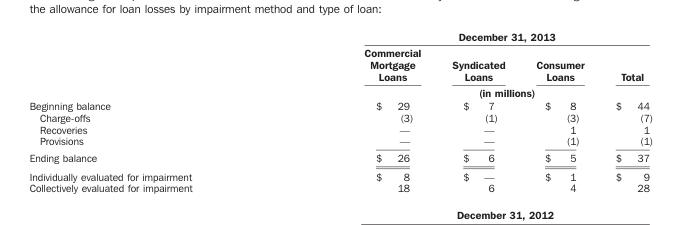table: (28, 29, 652, 193)
table column: (28, 29, 277, 193), (277, 29, 435, 193), (435, 29, 520, 193), (520, 29, 599, 193), (599, 29, 652, 193)
table column header: (28, 29, 652, 99)
table row: (28, 44, 652, 84), (28, 148, 652, 166), (28, 29, 652, 44), (28, 84, 652, 99), (28, 166, 652, 181), (28, 134, 652, 148), (28, 99, 652, 111), (28, 122, 652, 134), (28, 181, 652, 193), (28, 111, 652, 122)
table spanning cell: (277, 29, 652, 44), (277, 84, 652, 99)
